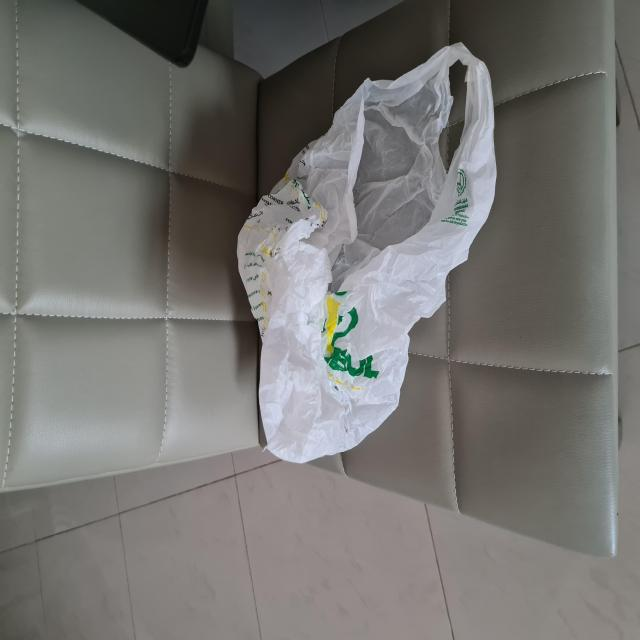plastic bag: (235, 44, 500, 467)
